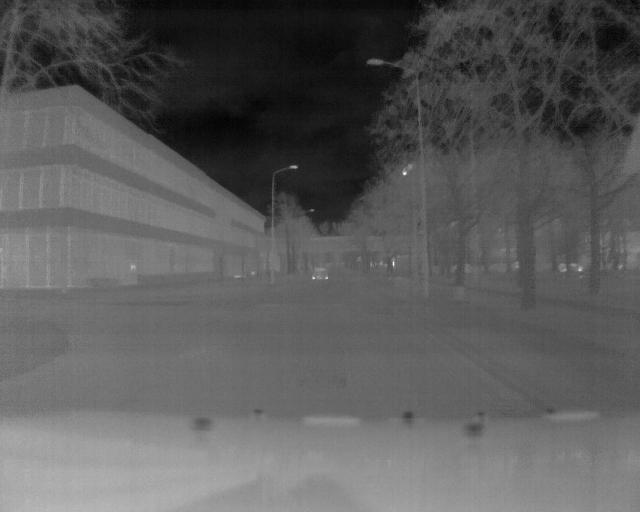car: (307, 263, 334, 286)
